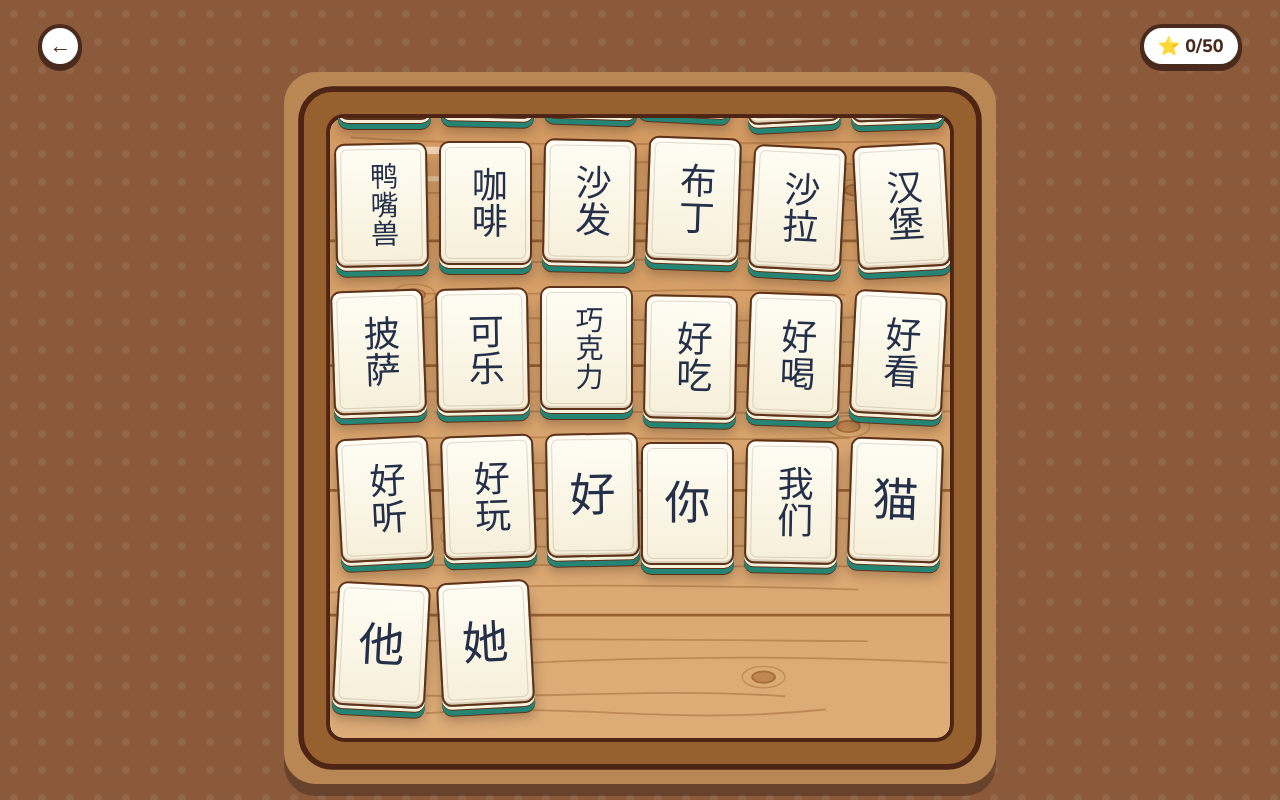
Mesa vista desde arriba › si la voz no suena (mudo), la ficha se abre igual
This screenshot has width=1280, height=800.
(page scrolled)
Click the button "猫": (895, 499) x1=847 y1=436 x2=944 y2=563
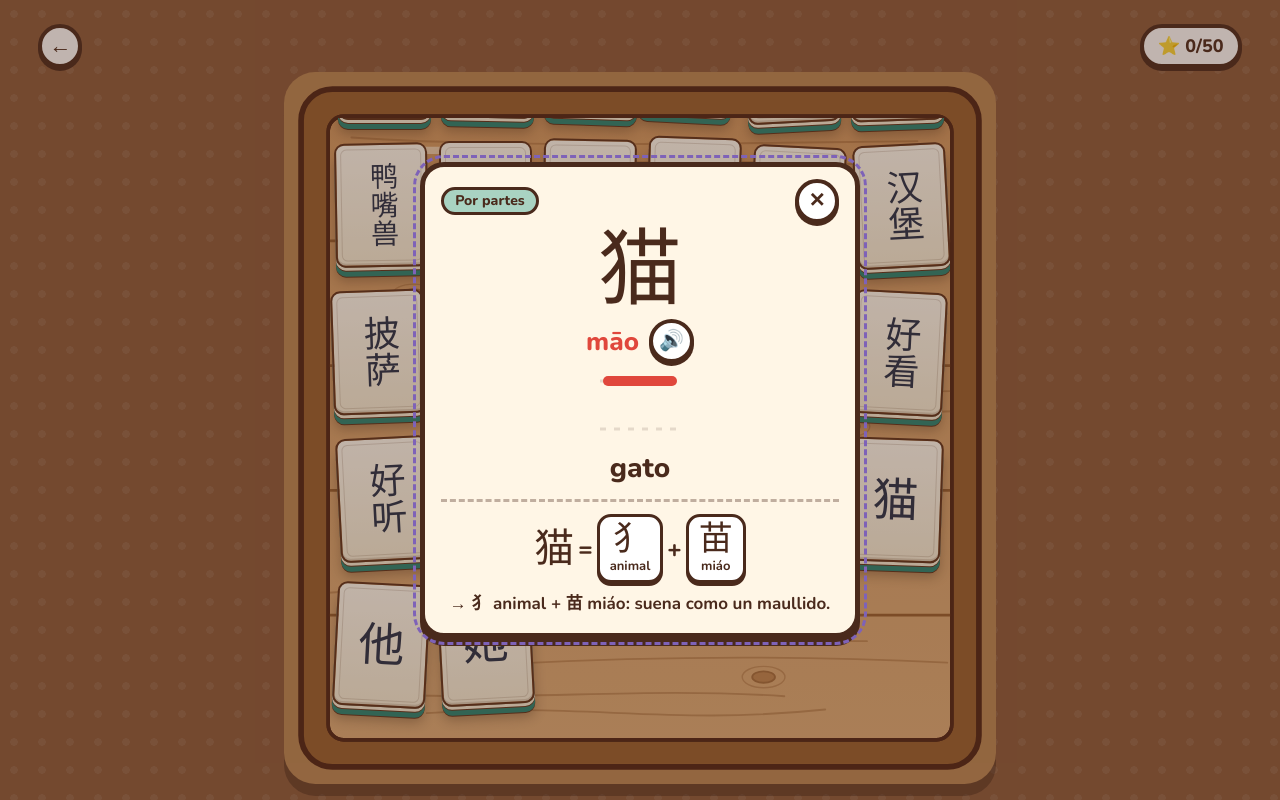
Expected: the dialog "猫" is shown, x1=420 y1=162 x2=860 y2=638
